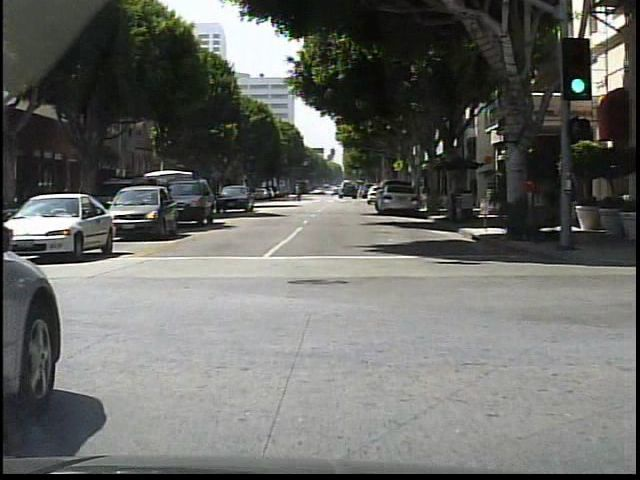person: (559, 160, 580, 242), (525, 171, 538, 228), (449, 172, 464, 220), (292, 182, 302, 200)
